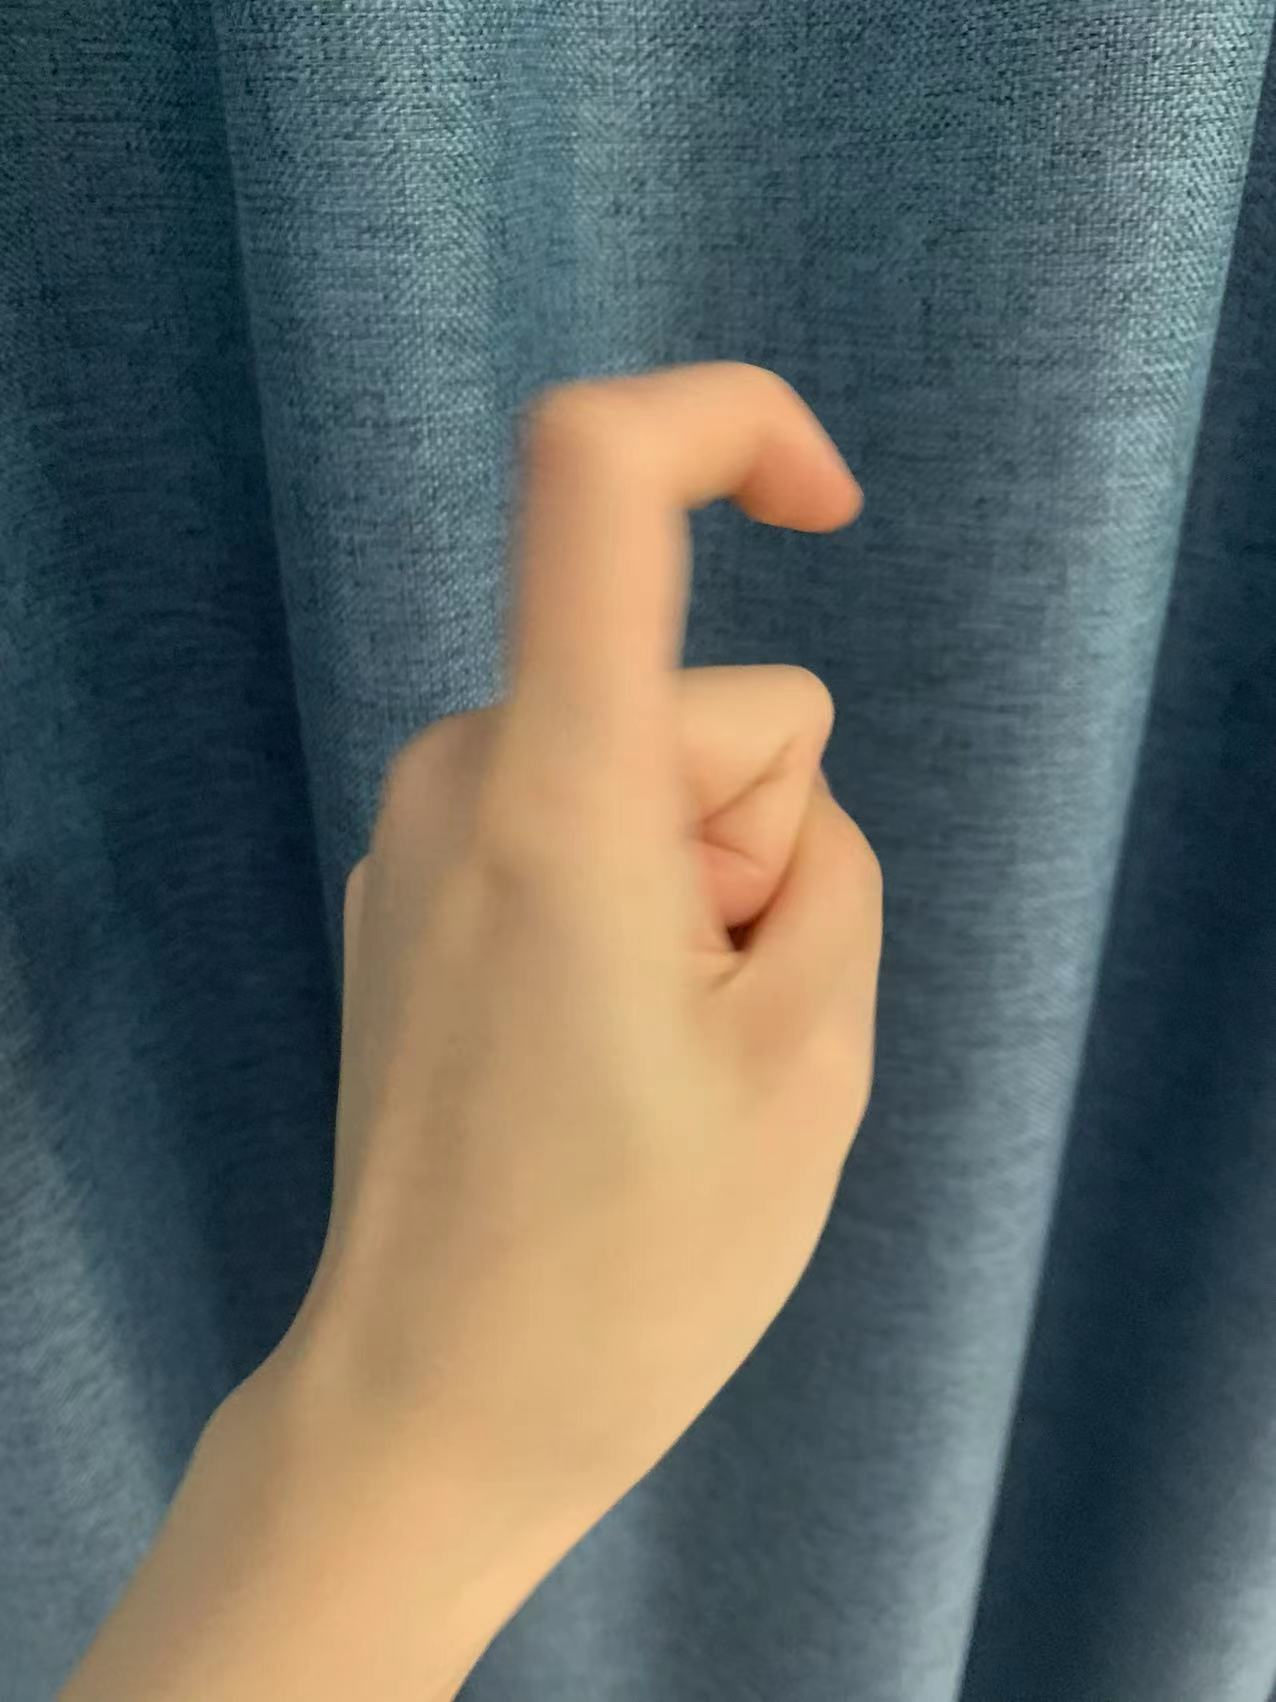anticlockwise: (280, 352, 914, 1422)
